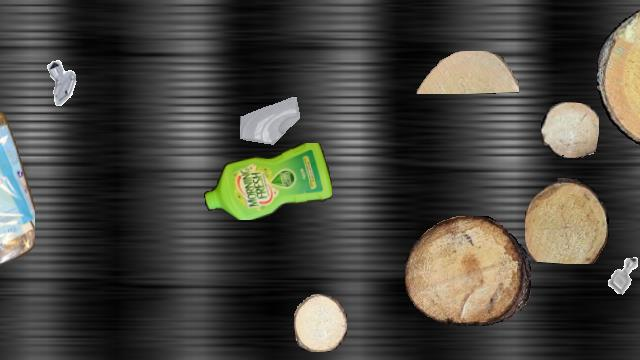glass: (240, 96, 302, 158)
metal: (40, 57, 88, 105), (598, 250, 640, 302)
plastic: (204, 143, 332, 219), (0, 81, 34, 269)
wood: (405, 216, 531, 326), (525, 178, 609, 264), (597, 1, 640, 151), (416, 51, 518, 93), (541, 102, 599, 158), (294, 294, 346, 352), (0, 35, 9, 115)
